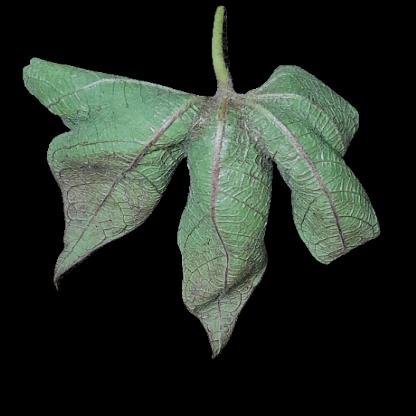curl_stage2: (189, 120, 257, 292), (62, 85, 150, 165), (292, 97, 337, 205), (308, 202, 372, 248), (115, 165, 175, 211), (217, 87, 287, 119), (149, 95, 197, 137), (202, 293, 240, 329)
